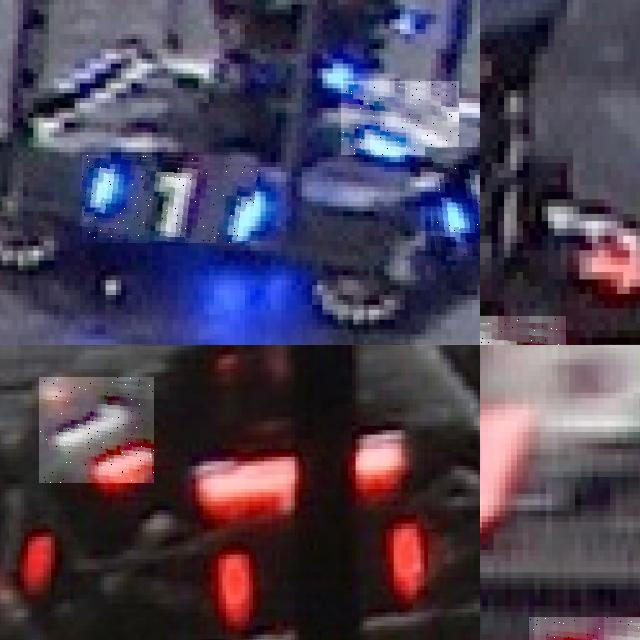B1: (82, 155, 258, 243), (341, 81, 459, 155), (425, 147, 480, 255)
R1: (39, 377, 154, 483)
